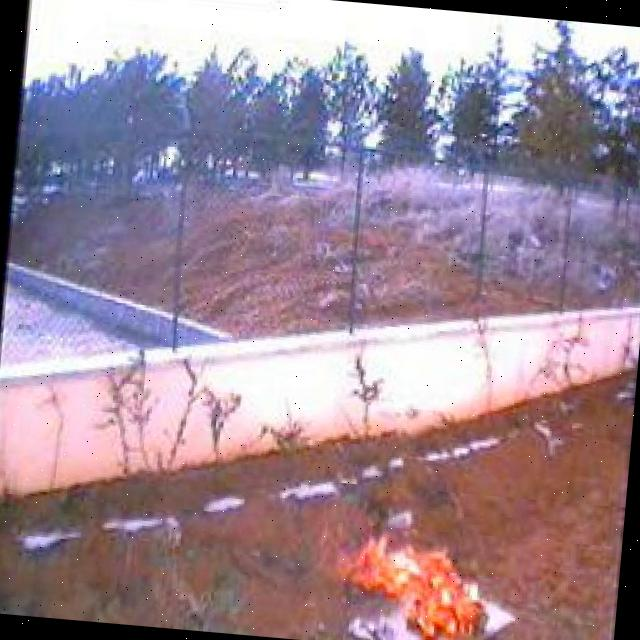fire: (315, 524, 503, 640)
